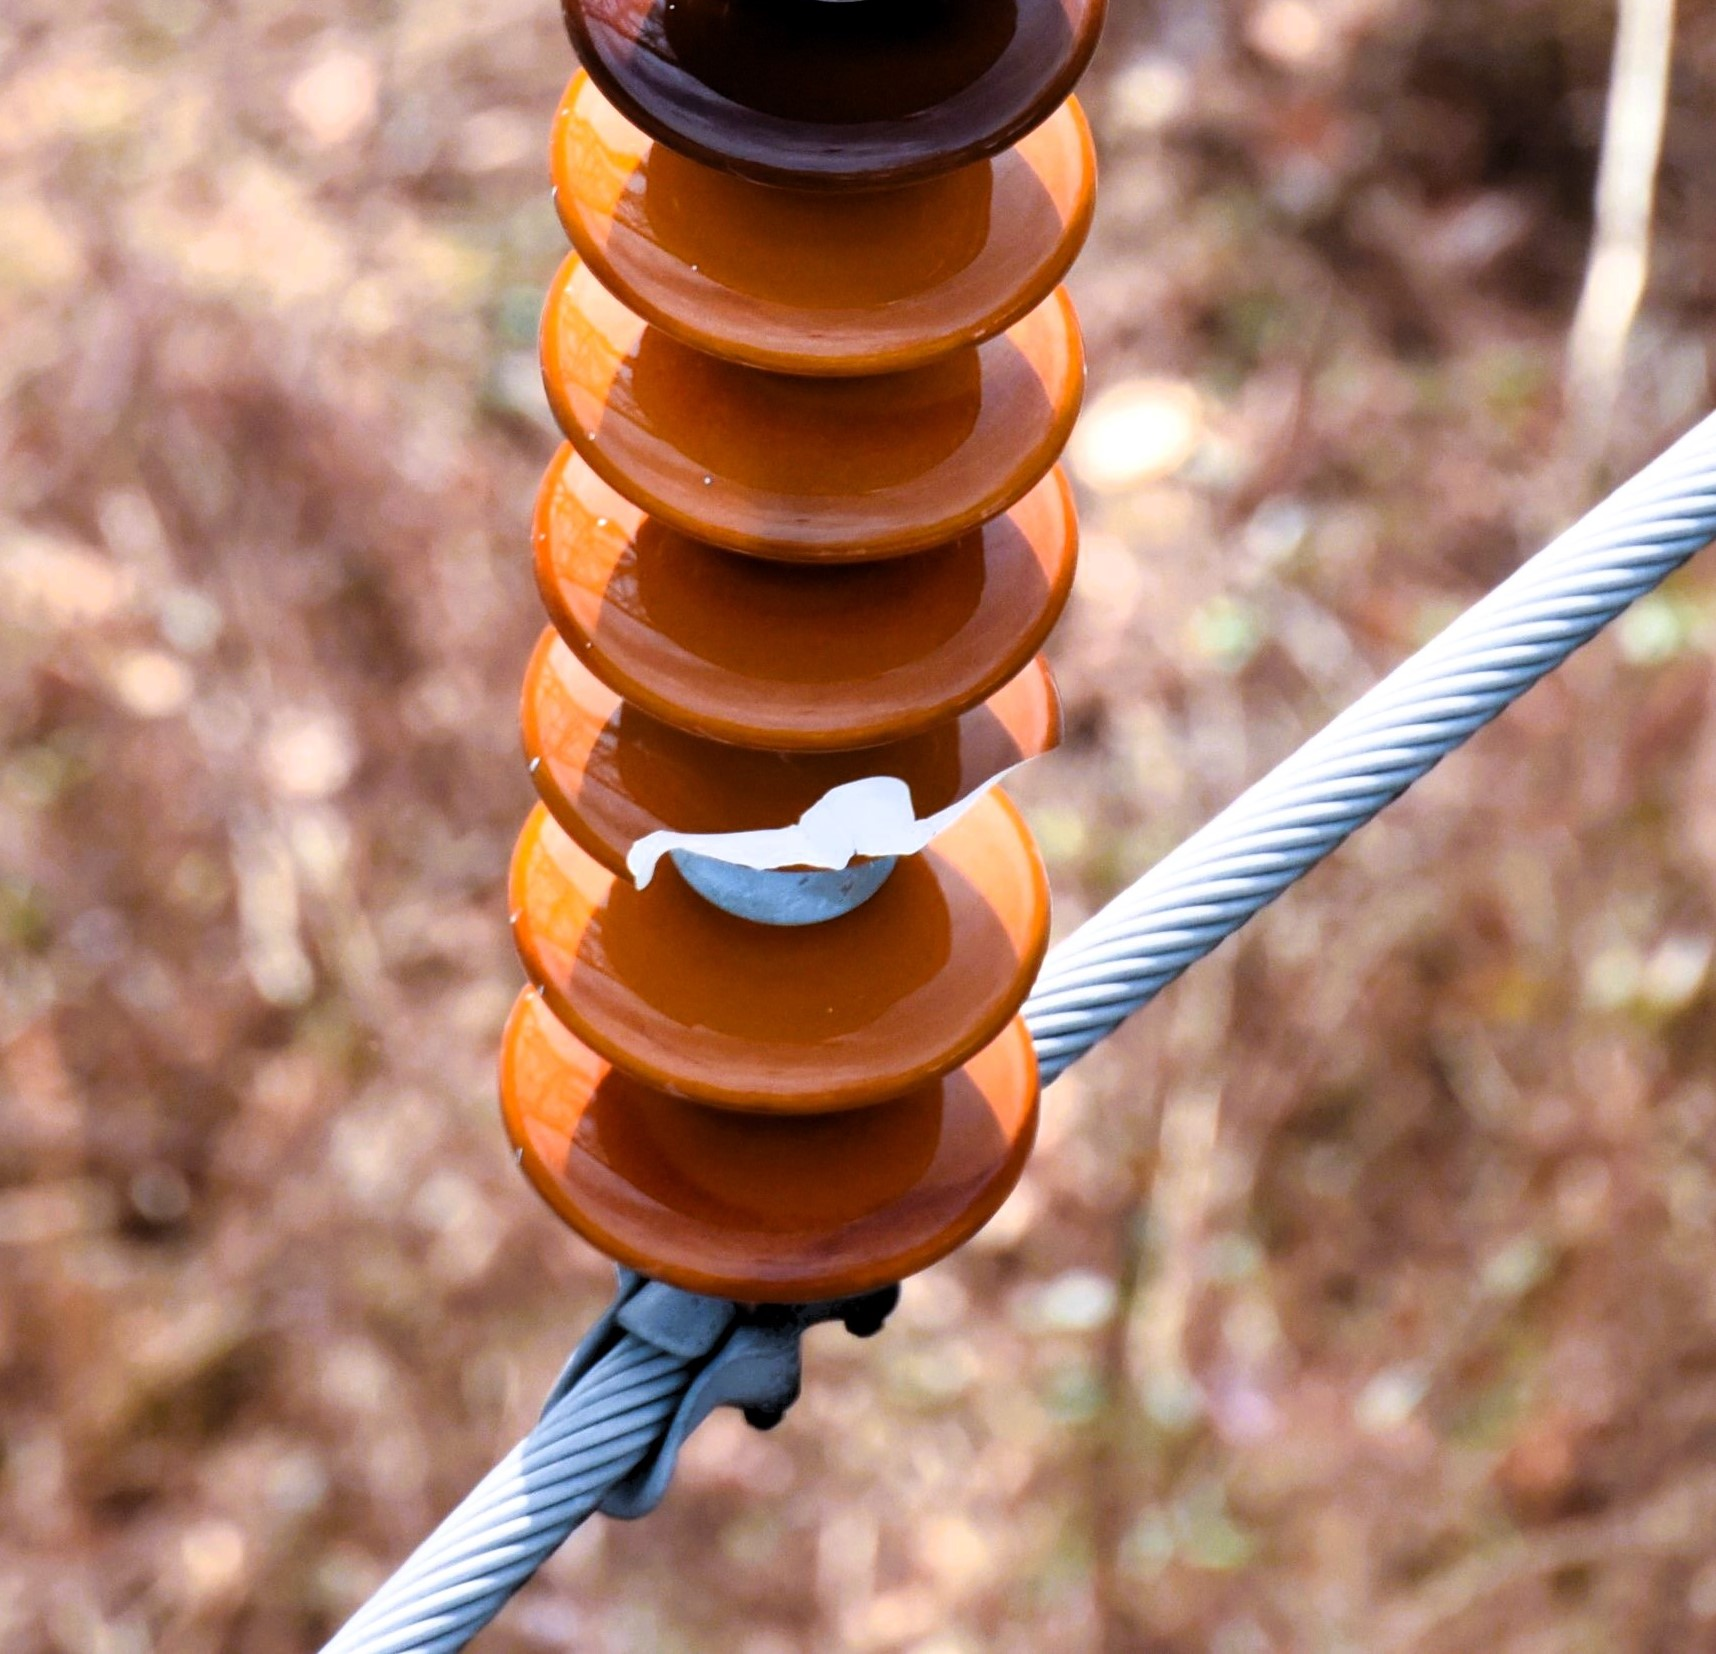insulator breakage: (472, 642, 1072, 913)
